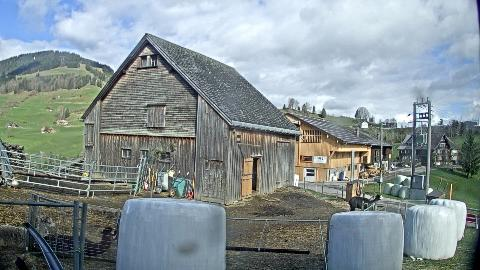car: (390, 163, 394, 171)
sheep: (42, 227, 118, 255), (1, 214, 60, 250), (349, 193, 385, 214)
